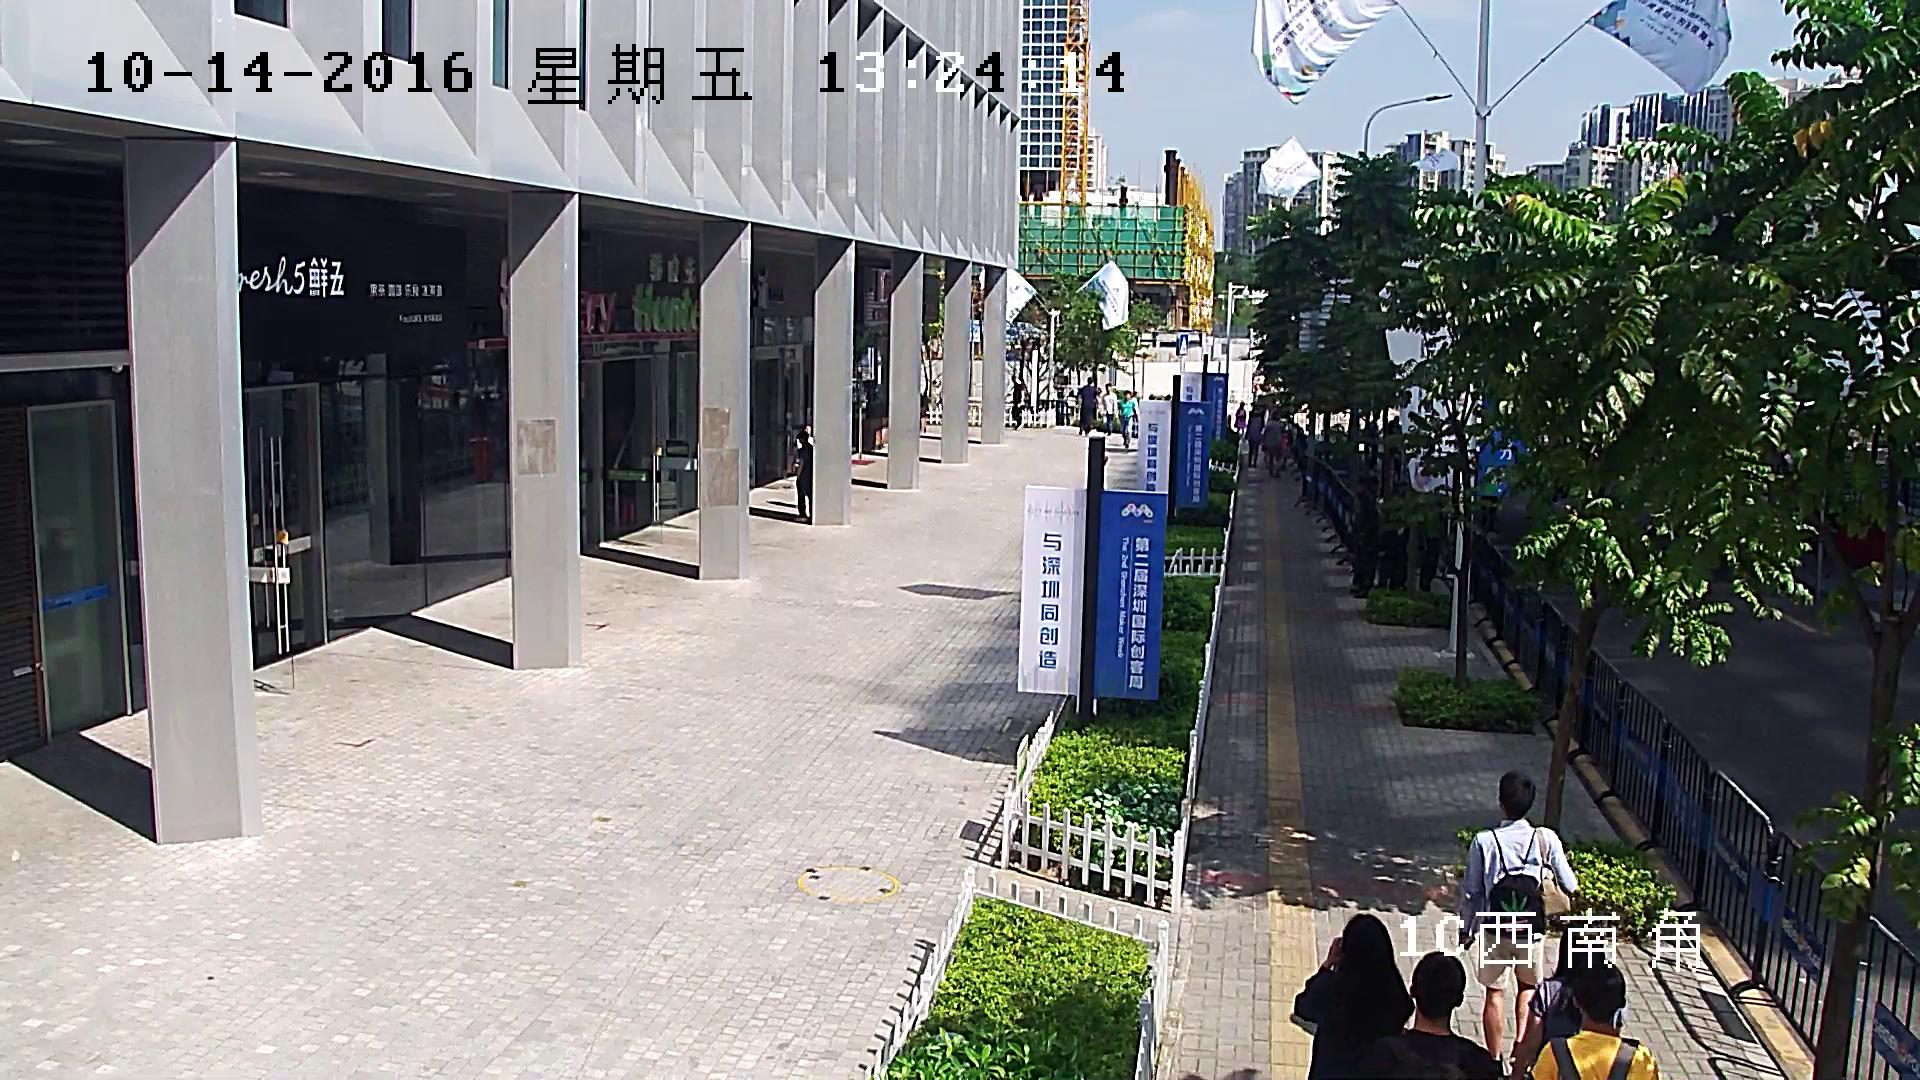person: (1458, 771, 1576, 1080), (1295, 912, 1415, 1080), (1510, 922, 1623, 1080), (1355, 952, 1496, 1080), (1528, 963, 1658, 1080), (1350, 492, 1380, 598), (1378, 526, 1411, 592), (861, 378, 882, 454), (795, 431, 812, 523), (1075, 376, 1100, 434), (1263, 414, 1284, 477), (1118, 390, 1138, 452), (1419, 531, 1438, 592), (1246, 412, 1263, 467), (1367, 412, 1384, 464), (1101, 382, 1117, 436), (446, 390, 461, 440), (1387, 416, 1402, 468), (1009, 376, 1022, 430), (1249, 395, 1265, 434), (1052, 369, 1068, 397), (1233, 401, 1245, 434), (919, 391, 928, 433)
